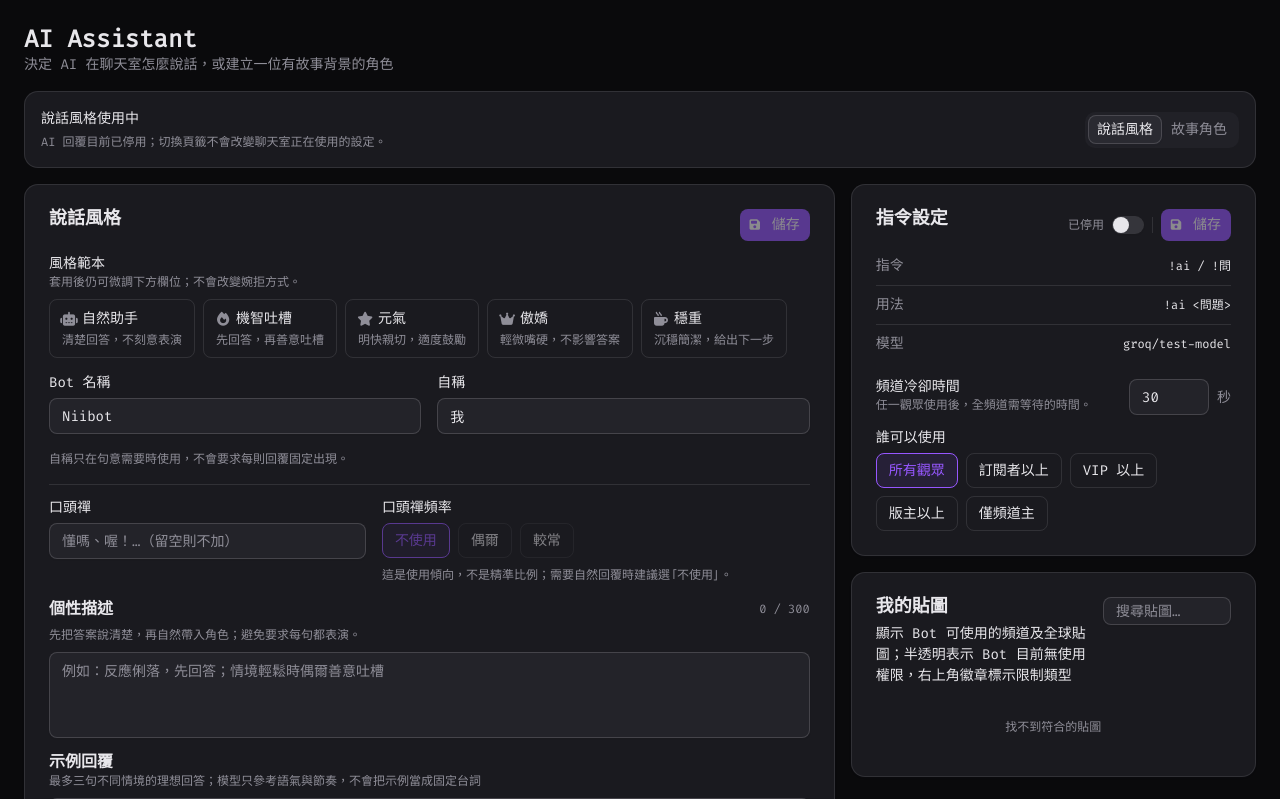
Test: AI persona and short-term memory settings › changes editor tabs without changing the active runtime mode
The width and height of the screenshot is (1280, 799).
Expected: the text "說話風格使用中" is shown, [41,109,139,128]
Click the tab "故事角色" at (1199, 130), box [1162,115,1236,144]
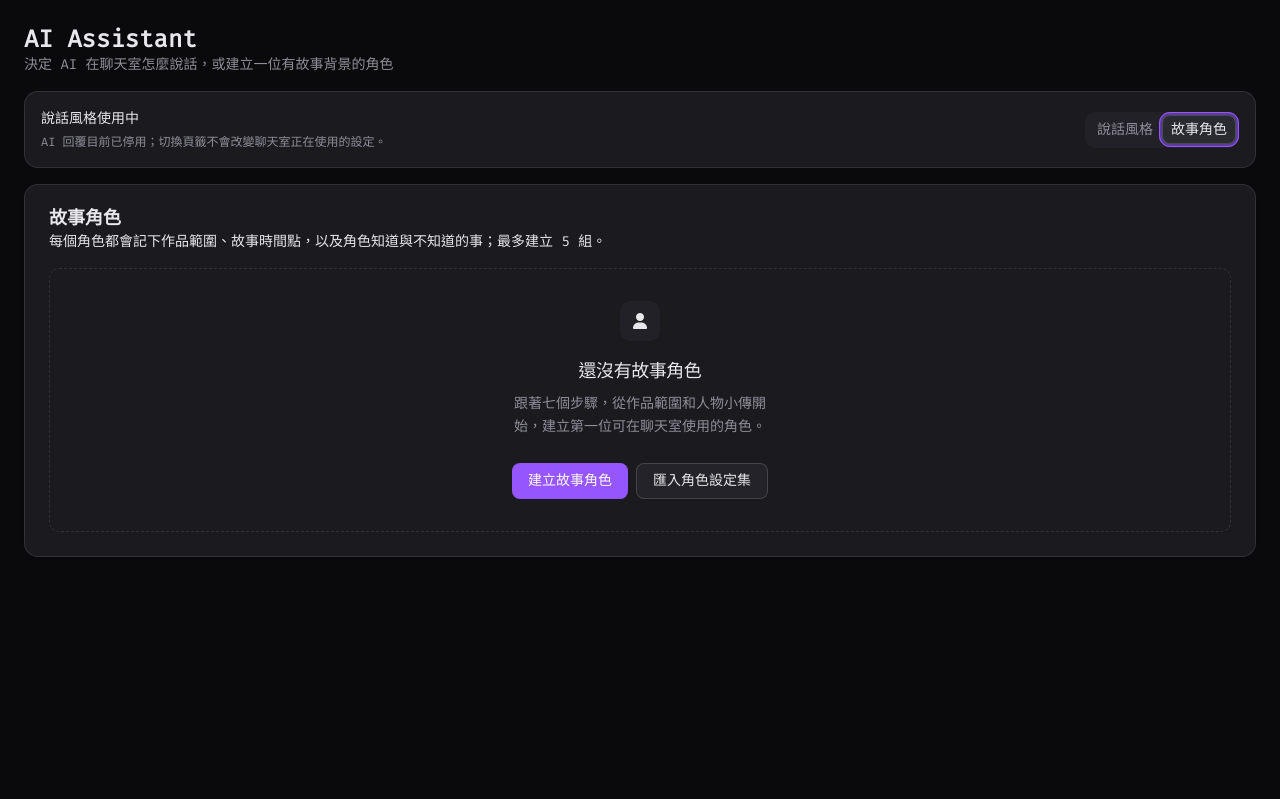
Expected: the text "說話風格使用中" is shown, [41,109,139,128]
Expected: the text "還沒有故事角色" is shown, [579,357,702,385]
